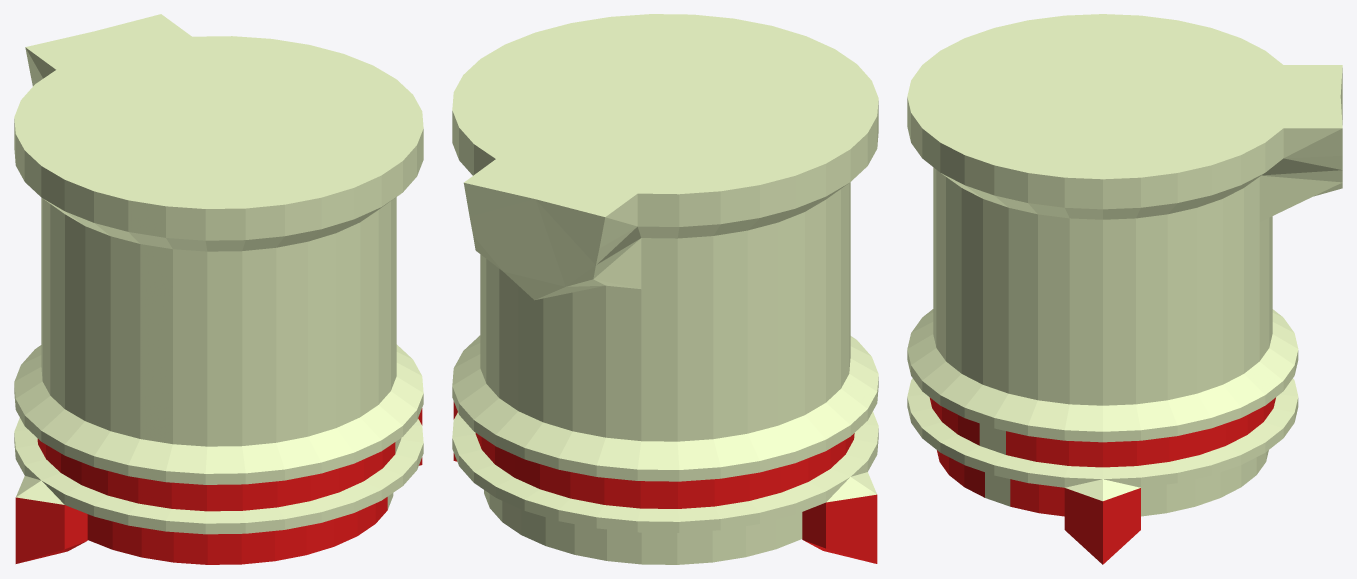
The model's file is primarycrusher.obj.
The picture shows the model from 3 angles, left to right: view 1: azimuth 30°, elevation 25°; view 2: azimuth 150°, elevation 25°; view 3: azimuth 270°, elevation 25°; orthographic projection. The views are drawn at different scales.
Parts seen in each view (by area): view 1: Cylinder; view 2: Cylinder; view 3: Cylinder.
Boxes of the visible parts, x1,y1,x2,y2 form: Cylinder: [14, 14, 423, 564]; Cylinder: [452, 14, 878, 564]; Cylinder: [907, 14, 1342, 564].
Size of the model in its own units: 2.29 by 2.11 by 2.23.
